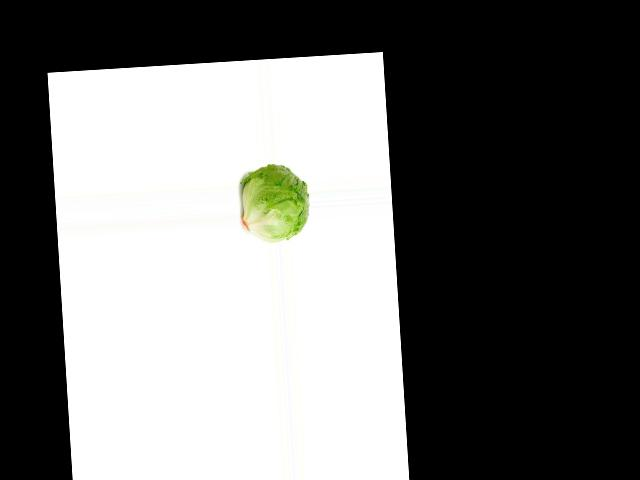lettuce: (240, 162, 311, 239)
